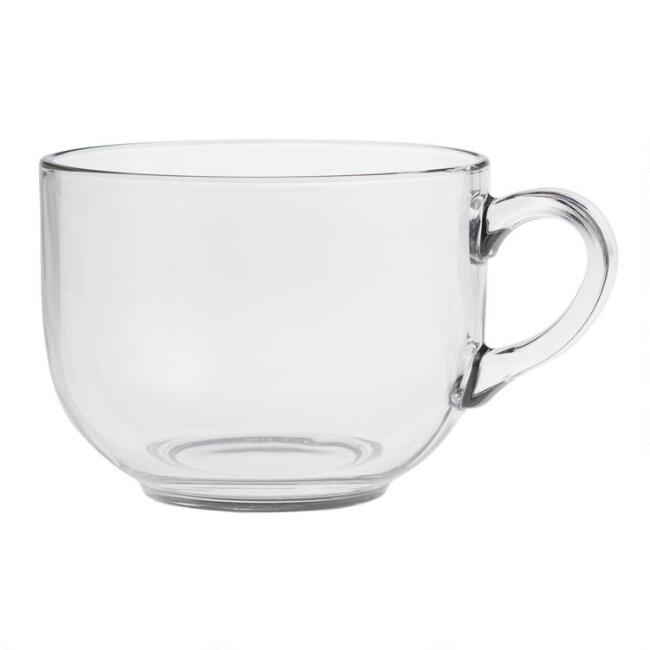glass: (39, 137, 617, 516)
